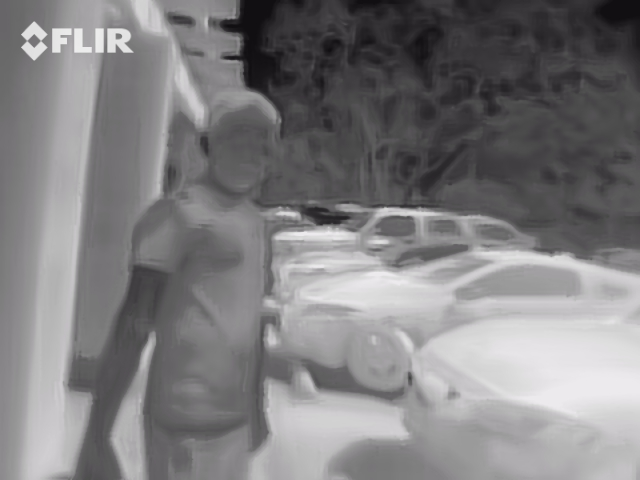head: (199, 90, 280, 194)
